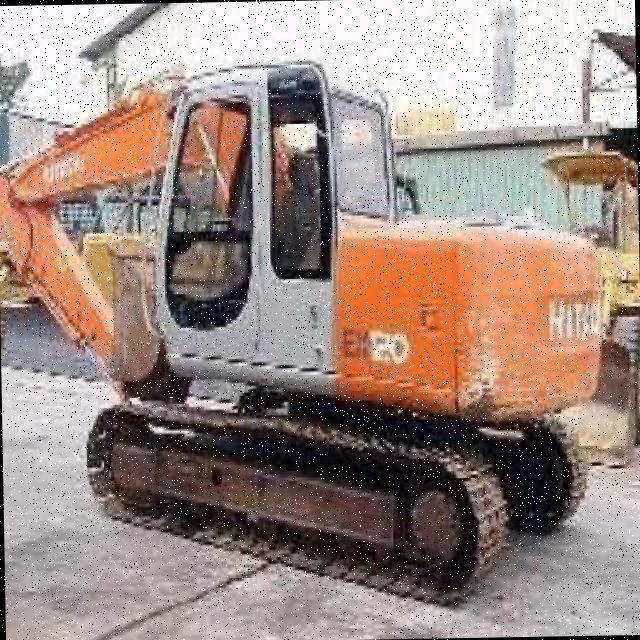Excavator: (0, 22, 609, 610)
